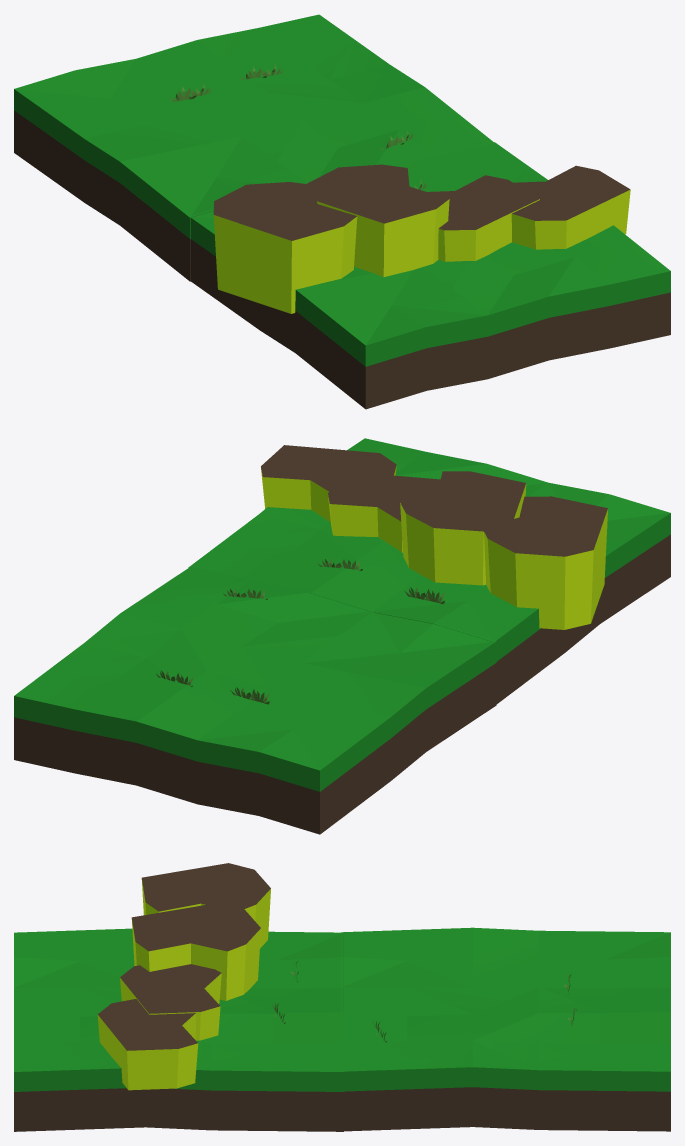
The picture shows the model from 3 angles, top to bottom: view 1: azimuth 30°, elevation 25°; view 2: azimuth 150°, elevation 25°; view 3: azimuth 270°, elevation 25°; orthographic projection. The views are drawn at different scales.
Visible parts, largest first — view 1: -mesh; view 2: -mesh; view 3: -mesh.
Boxes of the visible parts, x1,y1,x2,y2 form: -mesh: [14, 14, 670, 409]; -mesh: [14, 438, 670, 834]; -mesh: [14, 863, 670, 1131].
Bounding box in the file's own units: 17.83 × 5.63 × 29.86.
